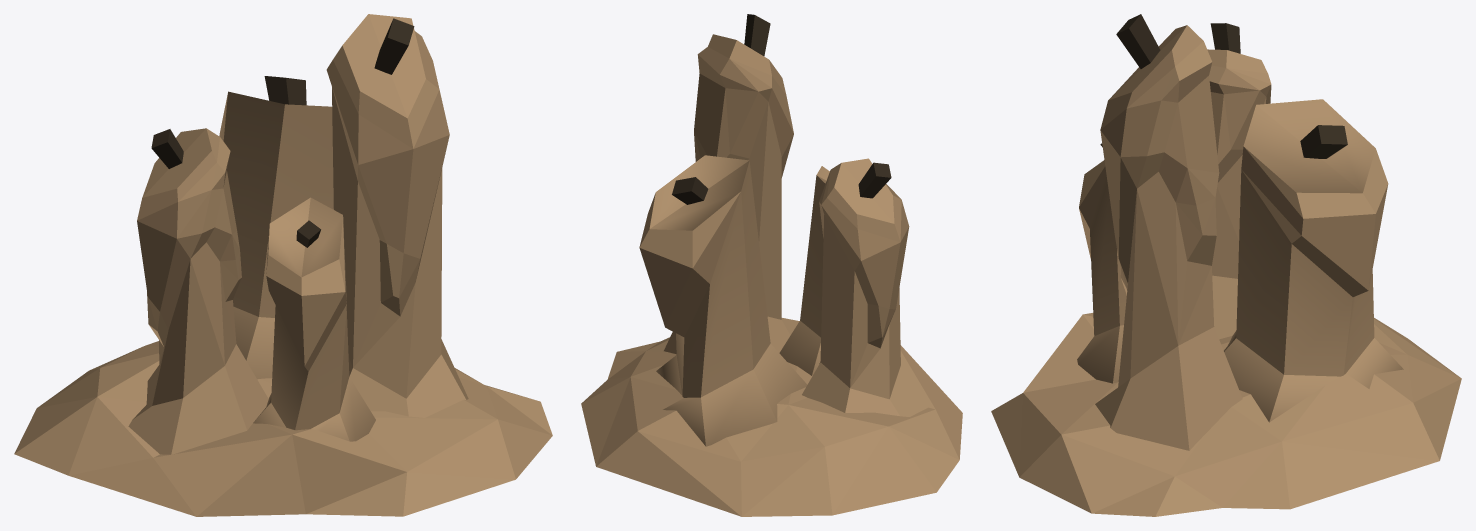
The model's file is SM_Prop_Candle_03.fbx.
The picture shows the model from 3 angles, left to right: view 1: azimuth 30°, elevation 25°; view 2: azimuth 150°, elevation 25°; view 3: azimuth 270°, elevation 25°; orthographic projection. The views are drawn at different scales.
Visible parts, largest first — view 1: SM_Prop_Candle_03; view 2: SM_Prop_Candle_03; view 3: SM_Prop_Candle_03.
Boxes of the visible parts, left/top/right/bottom form: SM_Prop_Candle_03: left=14, top=14, right=552, bottom=516; SM_Prop_Candle_03: left=581, top=14, right=962, bottom=516; SM_Prop_Candle_03: left=991, top=14, right=1461, bottom=516.
Size of the model in its own units: 32.67 by 30.18 by 29.49.
